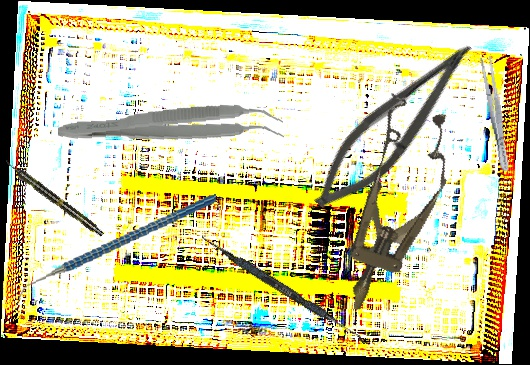Chopper: (6, 194, 226, 306)
Dressing Forceps: (478, 55, 513, 173)
Handpiece: (2, 157, 106, 239)
Micro Scissor: (301, 23, 485, 226)
Spatula Surgical: (197, 234, 371, 345)
Speculum: (317, 92, 469, 324)
Tissue Forceps: (56, 100, 285, 155)
